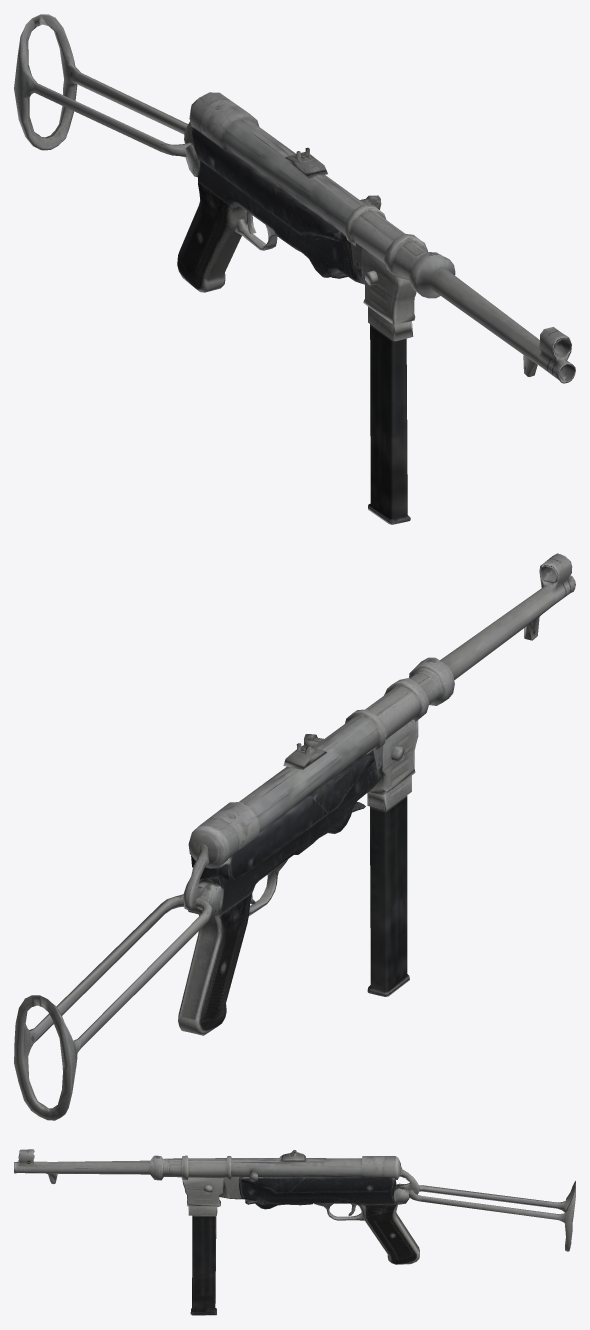
3 views of the same model, one above another, from view 1: azimuth 30°, elevation 25°; view 2: azimuth 150°, elevation 25°; view 3: azimuth 270°, elevation 25° (orthographic). The views are drawn at different scales.
Parts seen in each view (by area): view 1: mp40; view 2: mp40; view 3: mp40.
Boxes of the visible parts, x1,y1,x2,y2 form: mp40: (14, 14, 575, 524); mp40: (14, 553, 575, 1120); mp40: (14, 1149, 575, 1315).
Size of the model in its own units: 5.96 by 26.6 by 83.3.
1 material, 1 textured.
